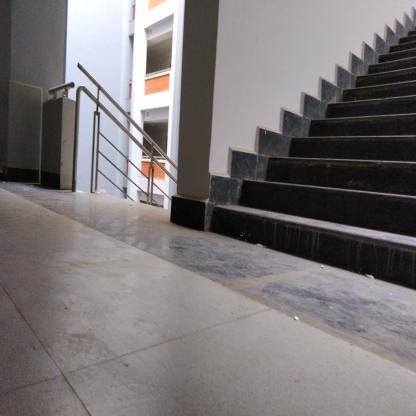stairs: (370, 55, 416, 291)
